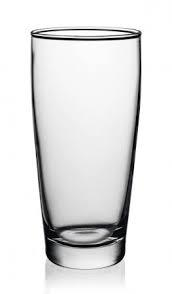glass: (15, 9, 144, 271)
